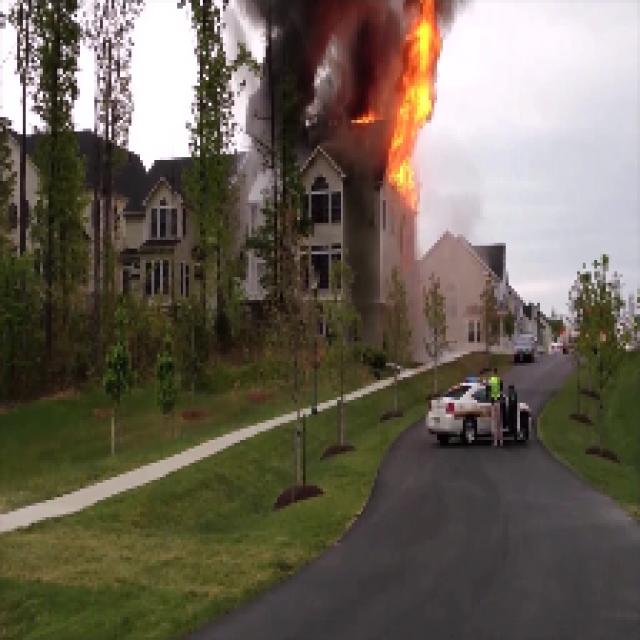fire: (274, 2, 374, 117), (385, 28, 444, 208)
